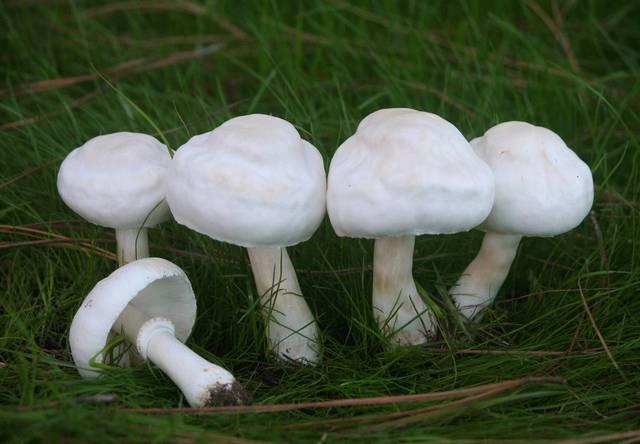poisonous_mushroom: (164, 112, 327, 368), (325, 106, 495, 350), (448, 119, 595, 322), (67, 255, 250, 408), (55, 130, 172, 266)
